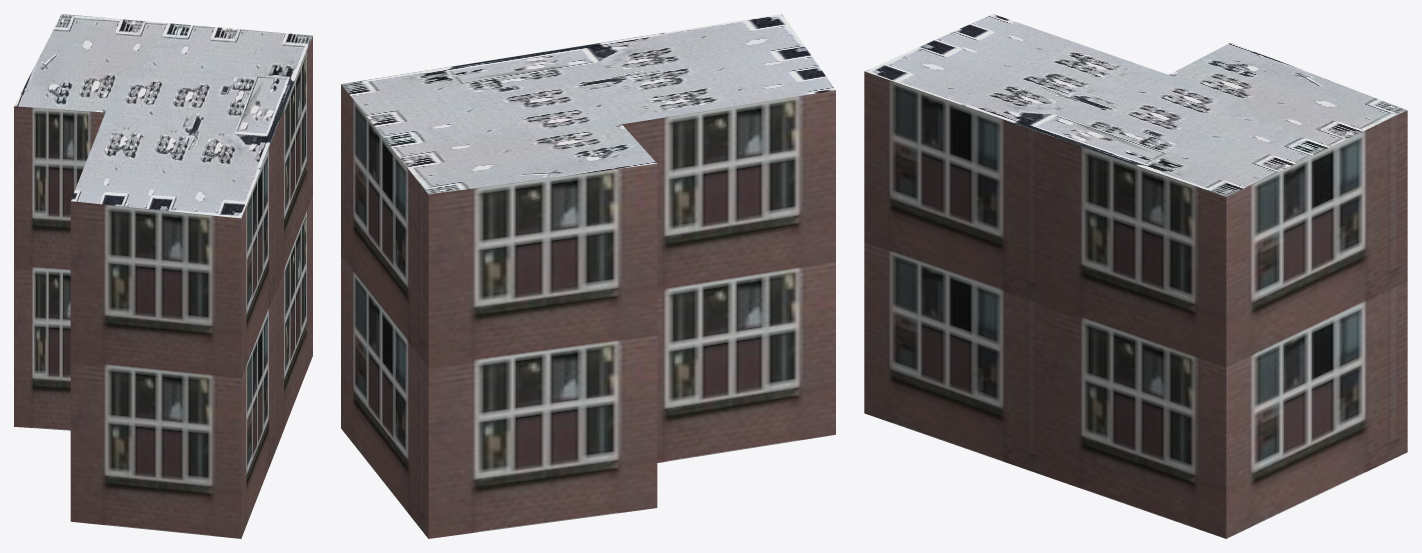
File: ResTex__1420.fbx
3 renders of one model, left to right at view 1: azimuth 30°, elevation 25°; view 2: azimuth 150°, elevation 25°; view 3: azimuth 270°, elevation 25°, orthographic. The views are drawn at different scales.
Visible parts, largest first — view 1: CityEngineMaterial_12_m, CityEngineMaterial_m; view 2: CityEngineMaterial_12_m, CityEngineMaterial_m; view 3: CityEngineMaterial_12_m, CityEngineMaterial_m.
Boxes of the visible parts, x1,y1,x2,y2 form: CityEngineMaterial_12_m: (14, 36, 312, 538); CityEngineMaterial_m: (14, 14, 312, 218); CityEngineMaterial_12_m: (341, 84, 835, 538); CityEngineMaterial_m: (341, 14, 835, 194); CityEngineMaterial_12_m: (864, 71, 1407, 538); CityEngineMaterial_m: (865, 14, 1406, 196).
Bounding box in the file's own units: 6.88 × 6 × 8.63.
Materials: 2 (2 with a texture image).
